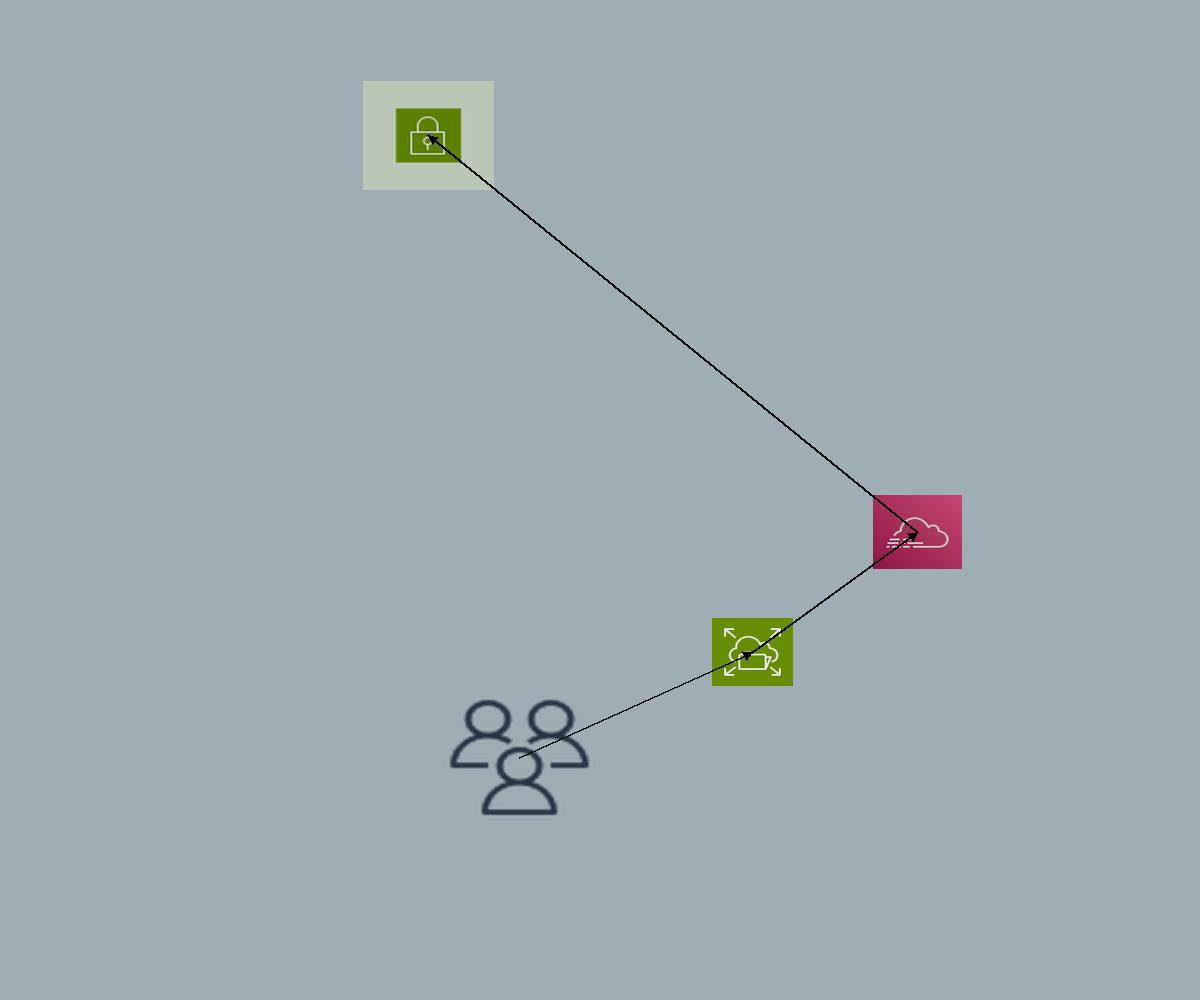AWS-CloudTrail: (873, 495, 962, 569)
AWS-EFS: (712, 618, 793, 686)
AWS-Public-subnet: (363, 81, 494, 190)
AWS-Res_Users: (444, 695, 595, 820)
